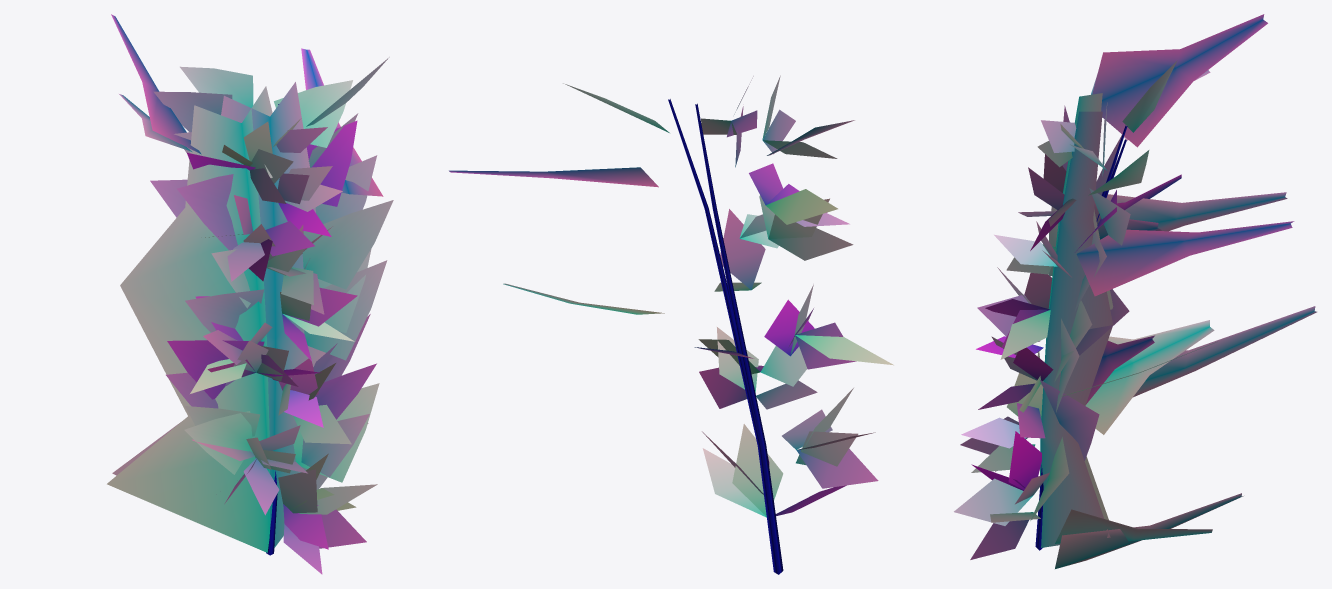
Rendered from grainfields-foliage.glb.
The picture shows the model from 3 angles, left to right: view 1: azimuth 30°, elevation 25°; view 2: azimuth 150°, elevation 25°; view 3: azimuth 270°, elevation 25°; orthographic projection. The views are drawn at different scales.
Parts seen in each view (by area): view 1: spruce_frond_1, birch_sprig_1, larch_tuft_0, birch_sprig_0, larch_tuft_1, spruce_frond_0; view 2: larch_tuft_0, larch_tuft_1, birch_sprig_1, spruce_frond_0, birch_sprig_0; view 3: spruce_frond_0, larch_tuft_1, spruce_frond_1, birch_sprig_0, larch_tuft_0, birch_sprig_1.
Part boxes in pixels (left/top/right/bottom): spruce_frond_1: left=107, top=86, right=272, bottom=552; birch_sprig_1: left=150, top=80, right=393, bottom=555; larch_tuft_0: left=207, top=121, right=377, bottom=574; birch_sprig_0: left=166, top=57, right=389, bottom=555; larch_tuft_1: left=190, top=118, right=356, bottom=549; spruce_frond_0: left=111, top=14, right=383, bottom=547; larch_tuft_0: left=699, top=75, right=858, bottom=517; larch_tuft_1: left=698, top=76, right=893, bottom=494; birch_sprig_1: left=563, top=83, right=783, bottom=574; spruce_frond_0: left=449, top=167, right=664, bottom=314; birch_sprig_0: left=668, top=99, right=779, bottom=574; spruce_frond_0: left=1040, top=14, right=1316, bottom=568; larch_tuft_1: left=954, top=120, right=1083, bottom=525; spruce_frond_1: left=1040, top=70, right=1214, bottom=543; birch_sprig_0: left=1035, top=60, right=1177, bottom=550; larch_tuft_0: left=970, top=198, right=1076, bottom=559; birch_sprig_1: left=1030, top=125, right=1149, bottom=550.
Bounding box in the file's own units: 0.7393 × 1.14 × 0.7644.
